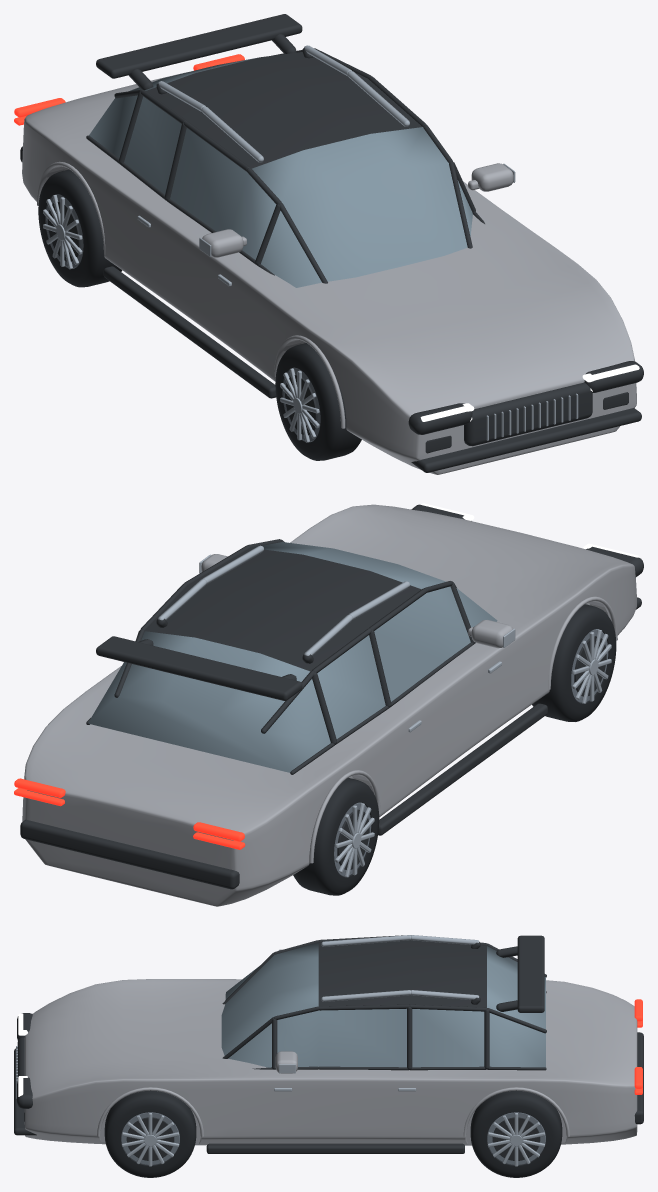
File: monarch.fbx
3 renders of one model, top to bottom at view 1: azimuth 30°, elevation 25°; view 2: azimuth 150°, elevation 25°; view 3: azimuth 270°, elevation 25°, orthographic. The views are drawn at different scales.
Parts seen in each view (by area): view 1: Sculpted exterior panels, Cabin glazing, Crowned roof panel, Shooting brake liftgate spoiler, Performance tyre FL, Recessed radiator grille, Performance tyre RL, Front lower splitter, Low sill molding, Alloy spoke face FL, Alloy spoke face RL, Recessed lamp housing (+4 smaller); view 2: Sculpted exterior panels, Cabin glazing, Crowned roof panel, Shooting brake liftgate spoiler, Rear diffuser, Performance tyre RL, Performance tyre FL, Low sill molding, Alloy spoke face RL, Alloy spoke face FL, Mirror_L_Housing, Rolled fender lip.001 (+1 smaller); view 3: Sculpted exterior panels, Cabin glazing, Crowned roof panel, Performance tyre FR, Performance tyre RR, Low sill molding.001, Shooting brake liftgate spoiler, Alloy spoke face RR, Alloy spoke face FR, Brake rotor.003, Brake rotor.001, Rim barrel.003 (+13 smaller).
Part boxes in pixels (left/top/right/bottom): Sculpted exterior panels: left=22, top=72, right=636, bottom=474; Cabin glazing: left=89, top=57, right=472, bottom=287; Crowned roof panel: left=146, top=52, right=422, bottom=168; Shooting brake liftgate spoiler: left=96, top=14, right=302, bottom=78; Performance tyre FL: left=275, top=343, right=361, bottom=460; Recessed radiator grille: left=464, top=382, right=592, bottom=446; Performance tyre RL: left=38, top=169, right=122, bottom=287; Front lower splitter: left=411, top=408, right=641, bottom=472; Low sill molding: left=103, top=266, right=276, bottom=398; Alloy spoke face FL: left=280, top=368, right=319, bottom=442; Alloy spoke face RL: left=43, top=195, right=82, bottom=269; Recessed lamp housing: left=408, top=403, right=472, bottom=434; Sculpted exterior panels: left=22, top=504, right=636, bottom=906; Cabin glazing: left=89, top=542, right=497, bottom=772; Crowned roof panel: left=145, top=548, right=421, bottom=671; Shooting brake liftgate spoiler: left=96, top=636, right=302, bottom=700; Rear diffuser: left=20, top=819, right=239, bottom=889; Performance tyre RL: left=293, top=777, right=379, bottom=895; Performance tyre FL: left=532, top=604, right=616, bottom=721; Low sill molding: left=378, top=703, right=547, bottom=835; Alloy spoke face RL: left=335, top=803, right=374, bottom=877; Alloy spoke face FL: left=572, top=629, right=611, bottom=703; Mirror_L_Housing: left=471, top=619, right=512, bottom=648; Rolled fender lip.001: left=309, top=770, right=380, bottom=863; Sculpted exterior panels: left=24, top=979, right=637, bottom=1145; Cabin glazing: left=221, top=943, right=545, bottom=1067; Crowned roof panel: left=318, top=940, right=486, bottom=1007; Performance tyre FR: left=104, top=1090, right=196, bottom=1177; Performance tyre RR: left=470, top=1090, right=562, bottom=1177; Low sill molding.001: left=206, top=1143, right=464, bottom=1153; Shooting brake liftgate spoiler: left=517, top=935, right=544, bottom=1012; Alloy spoke face RR: left=487, top=1113, right=545, bottom=1166; Alloy spoke face FR: left=121, top=1113, right=179, bottom=1166; Brake rotor.003: left=492, top=1117, right=540, bottom=1160; Brake rotor.001: left=126, top=1117, right=174, bottom=1160; Rim barrel.003: left=487, top=1112, right=545, bottom=1165.
Bounding box in the file's own units: 2.22 × 1.47 × 5.13.
